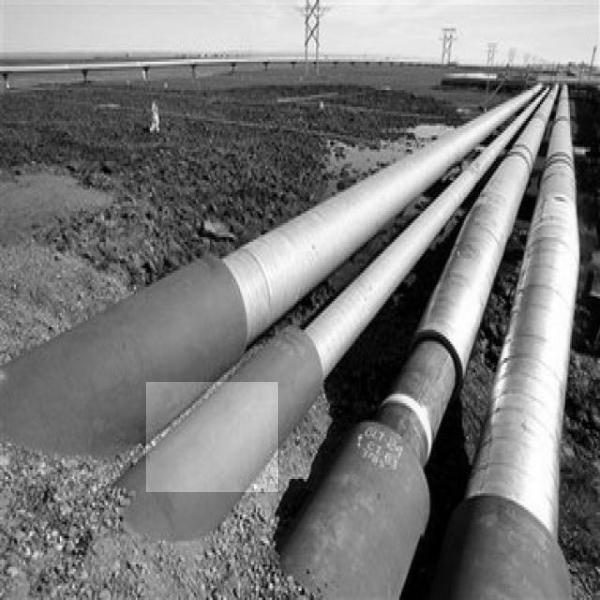no leak: (146, 382, 278, 492)
